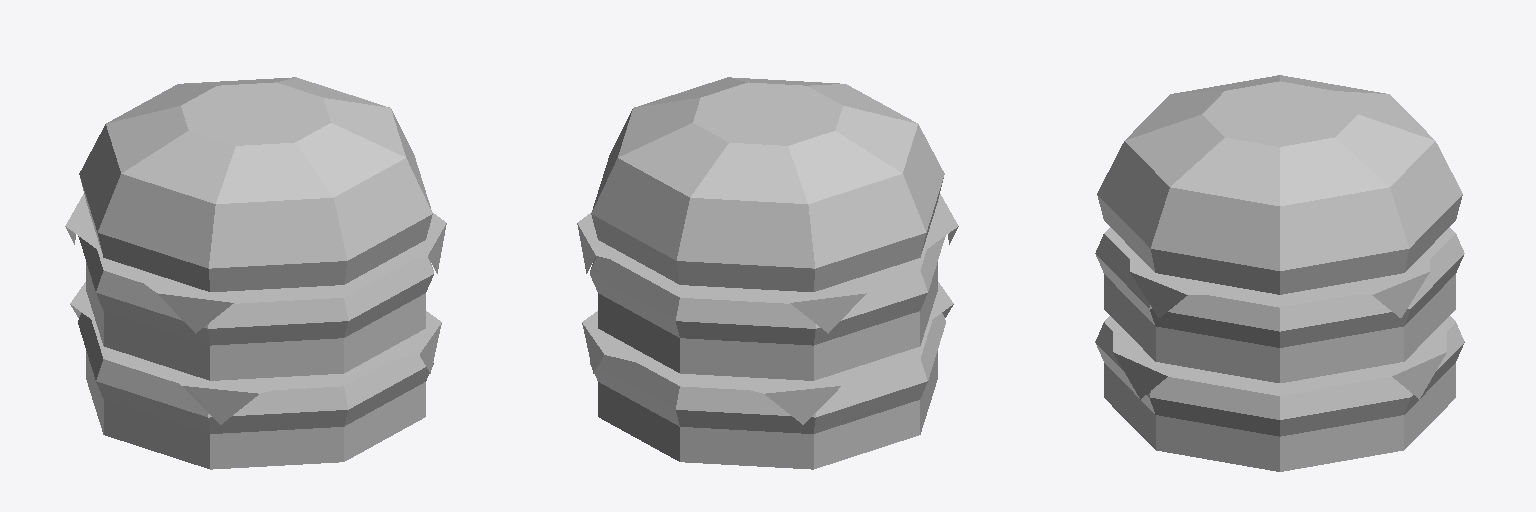
File: burgerCheeseDouble.obj
The picture shows the model from 3 angles: view 1: azimuth 30°, elevation 25°; view 2: azimuth 150°, elevation 25°; view 3: azimuth 270°, elevation 25°; orthographic projection.
Parts seen in each view (by area): view 1: bunTop, patty, bunBottom, cheese; view 2: bunTop, patty, bunBottom, cheese; view 3: bunTop, patty, bunBottom, cheese.
Boxes of the visible parts, box(x1,y1,x2,y2) form: bunTop: box(79, 77, 432, 291); patty: box(78, 236, 433, 433); bunBottom: box(86, 262, 425, 469); cheese: box(65, 194, 446, 424); bunTop: box(591, 77, 944, 291); patty: box(590, 236, 945, 433); bunBottom: box(598, 262, 937, 469); cheese: box(577, 194, 958, 424); bunTop: box(1097, 75, 1462, 294); patty: box(1095, 227, 1464, 436); bunBottom: box(1104, 274, 1455, 471); cheese: box(1113, 248, 1446, 399).
Bounding box in the file's own units: 0.378 × 0.32 × 0.378.